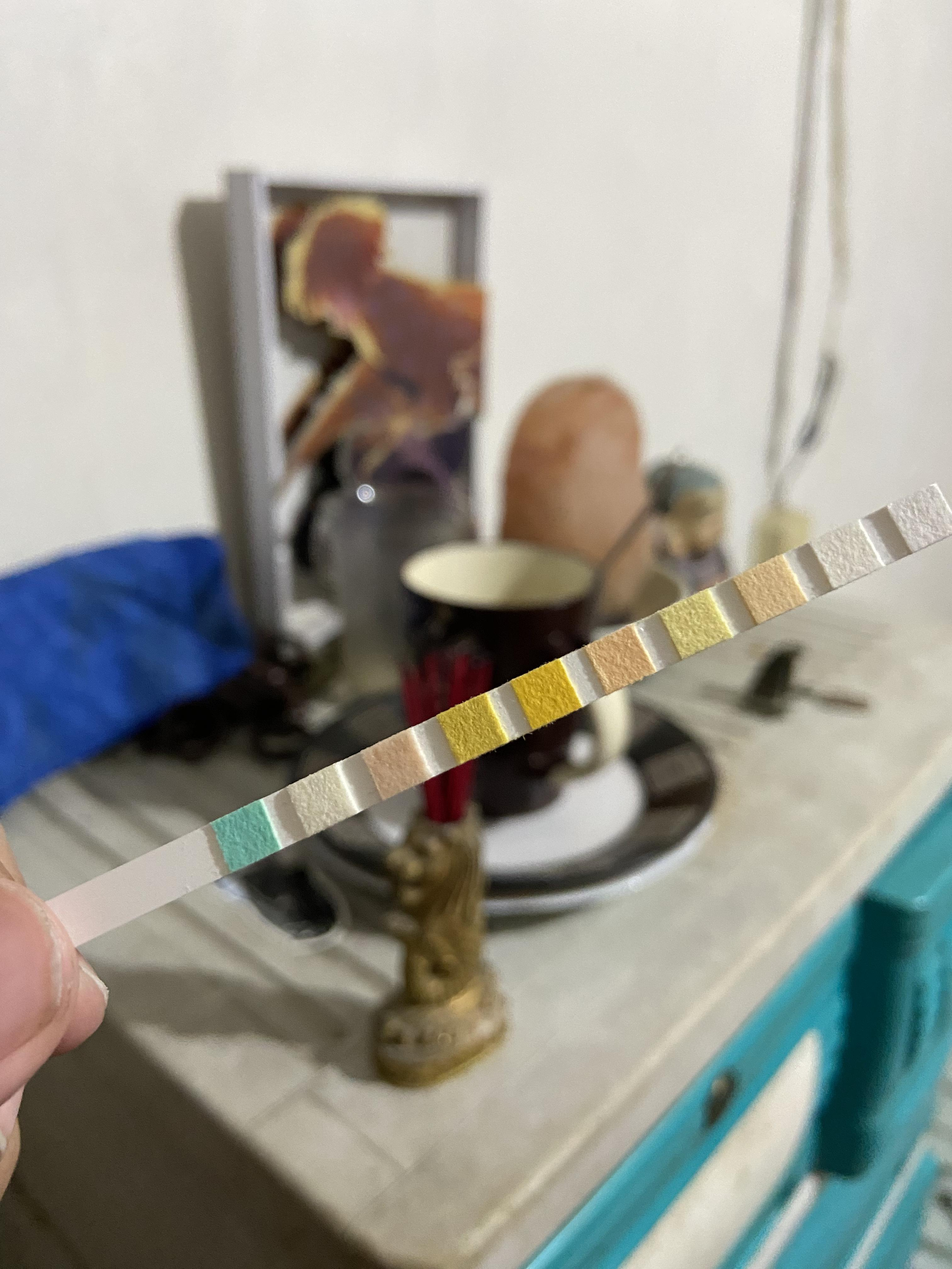Bilirubin: (299, 781, 342, 816)
Blood: (526, 674, 566, 715)
Glucose: (228, 814, 265, 858)
Ketone: (377, 743, 417, 785)
Leukocytes: (901, 498, 944, 534)
Nitrite: (824, 534, 868, 571)
Protein: (677, 602, 715, 644)
SpGravity: (451, 708, 493, 750)
Urobilinogen: (748, 570, 791, 608)
pH: (601, 638, 640, 680)
strip: (45, 484, 952, 947)
